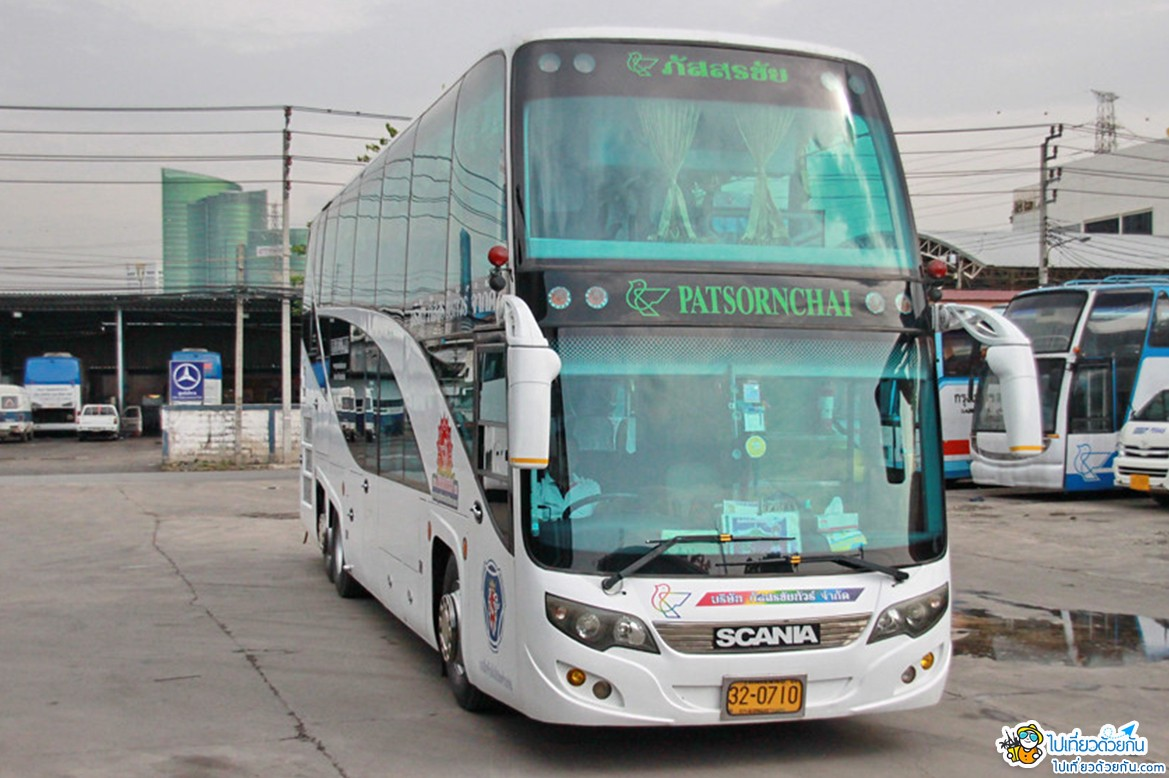bus: (300, 26, 956, 730)
